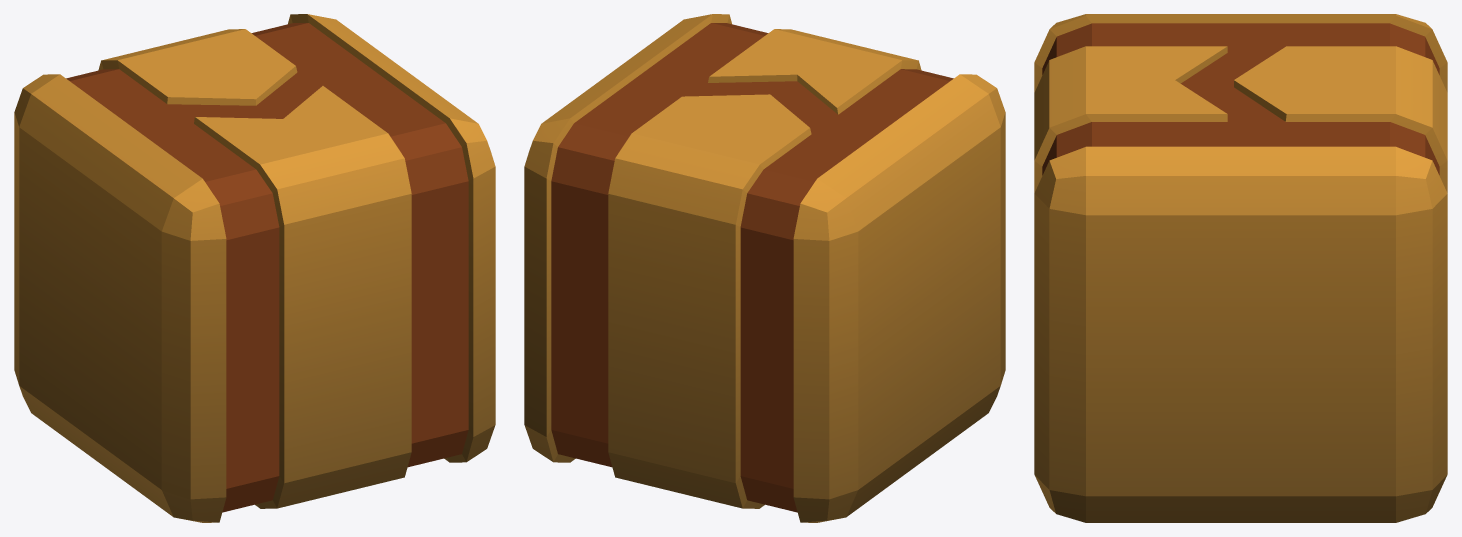
File: Tile_JalurBuntutLurusEmas.fbx
The picture shows the model from 3 angles, left to right: view 1: azimuth 30°, elevation 25°; view 2: azimuth 150°, elevation 25°; view 3: azimuth 270°, elevation 25°; orthographic projection. The views are drawn at different scales.
Visible parts, largest first — view 1: Jalur Ular Lurus Emas; view 2: Jalur Ular Lurus Emas; view 3: Jalur Ular Lurus Emas.
Boxes of the visible parts, box(x1,y1,x2,y2) form: Jalur Ular Lurus Emas: box(14, 14, 495, 522); Jalur Ular Lurus Emas: box(524, 14, 1005, 522); Jalur Ular Lurus Emas: box(1034, 14, 1447, 522).
Bounding box in the file's own units: 1 × 1 × 1.
1 material, 1 textured.
